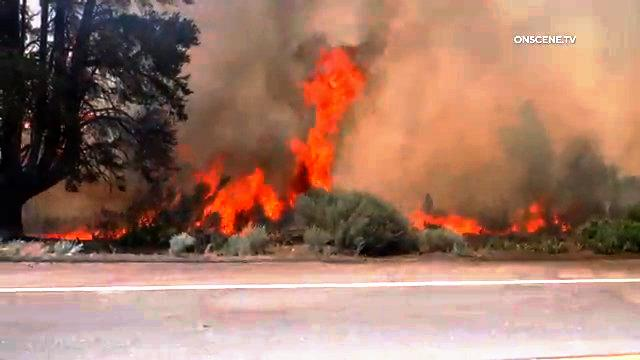fire: (282, 35, 370, 190), (172, 147, 291, 244), (389, 193, 578, 252), (29, 222, 128, 258)
smoke: (384, 2, 504, 188), (202, 0, 276, 136)
